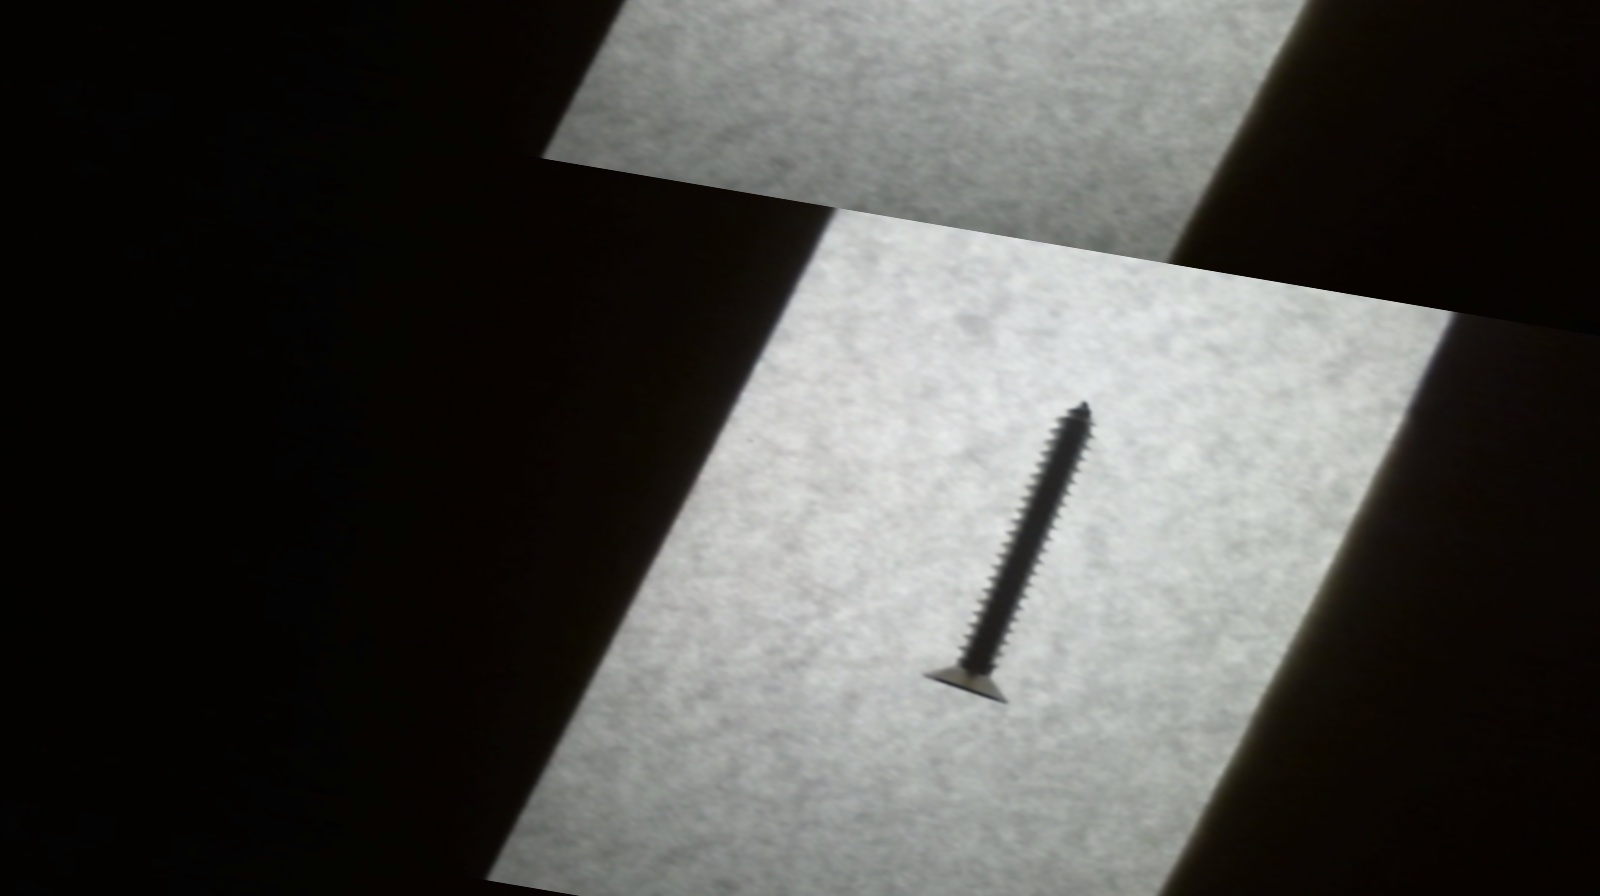S002: (903, 372, 1123, 718)
